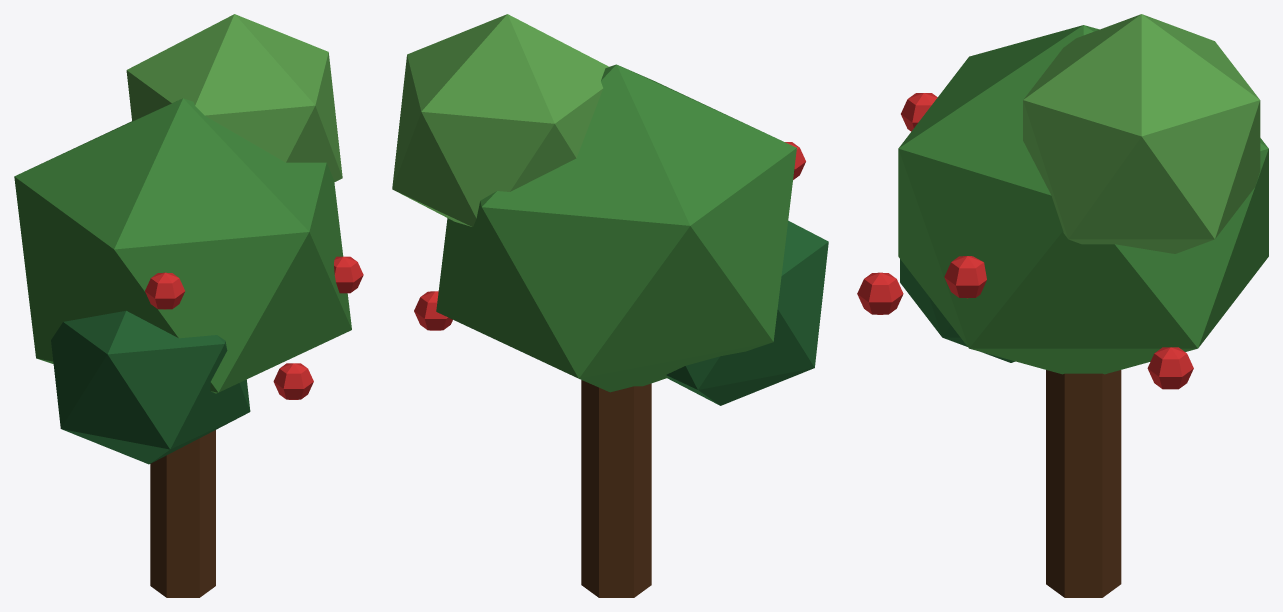
The model's file is drzewo_1.glb.
3 renders of one model, left to right at view 1: azimuth 30°, elevation 25°; view 2: azimuth 150°, elevation 25°; view 3: azimuth 270°, elevation 25°, orthographic. The views are drawn at different scales.
Visible parts, largest first — view 1: drzewo_1; view 2: drzewo_1; view 3: drzewo_1.
Part boxes in pixels (box(x1,y1,x2,y2)): drzewo_1: box(14, 14, 363, 597); drzewo_1: box(392, 14, 828, 597); drzewo_1: box(857, 14, 1268, 597).
Size of the model in its own units: 1.48 by 2.33 by 1.42.
